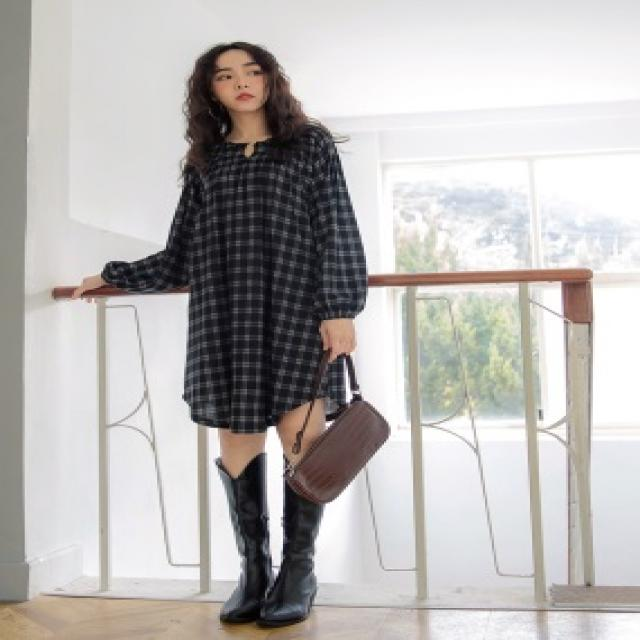plaid: (154, 127, 363, 425)
